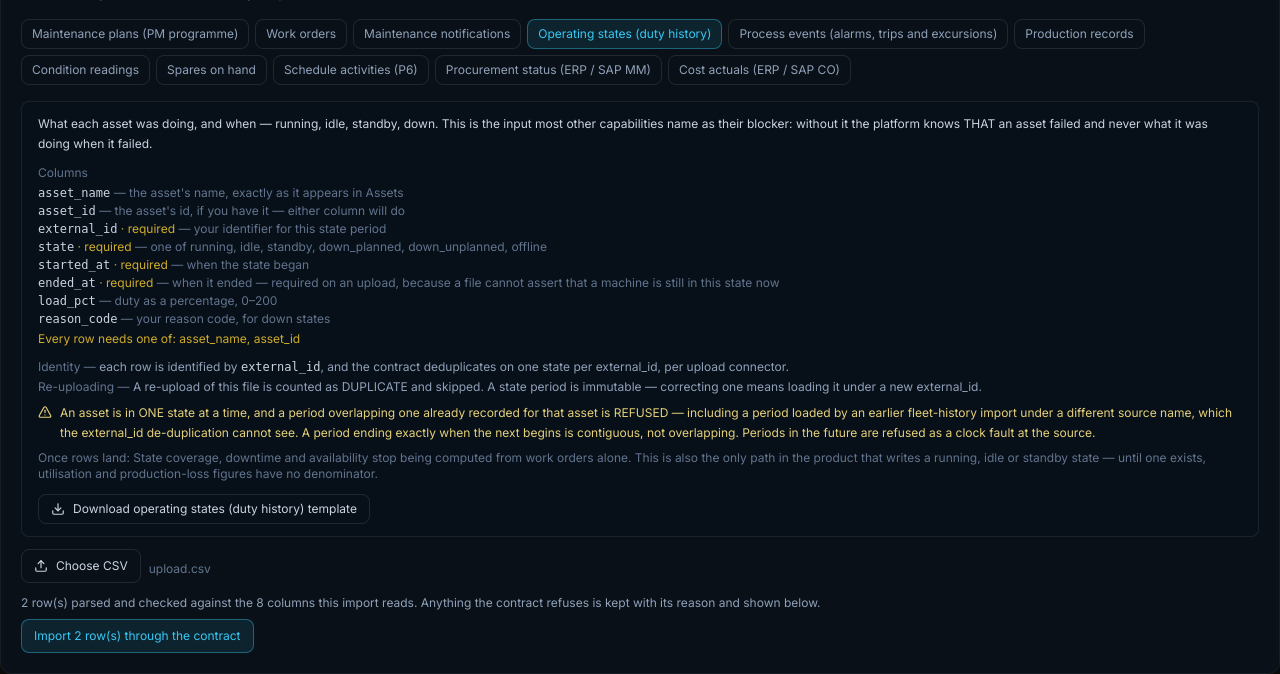
Test case: a run is never left running › finishes as partial when rows were refused, so the watermark holds
Earlier steps of the test are not shown.
(page scrolled)
Click the button "Import 2 row(s) through the contract" at (137, 636), box top-left (21, 619), bottom-right (254, 653)
(page scrolled)
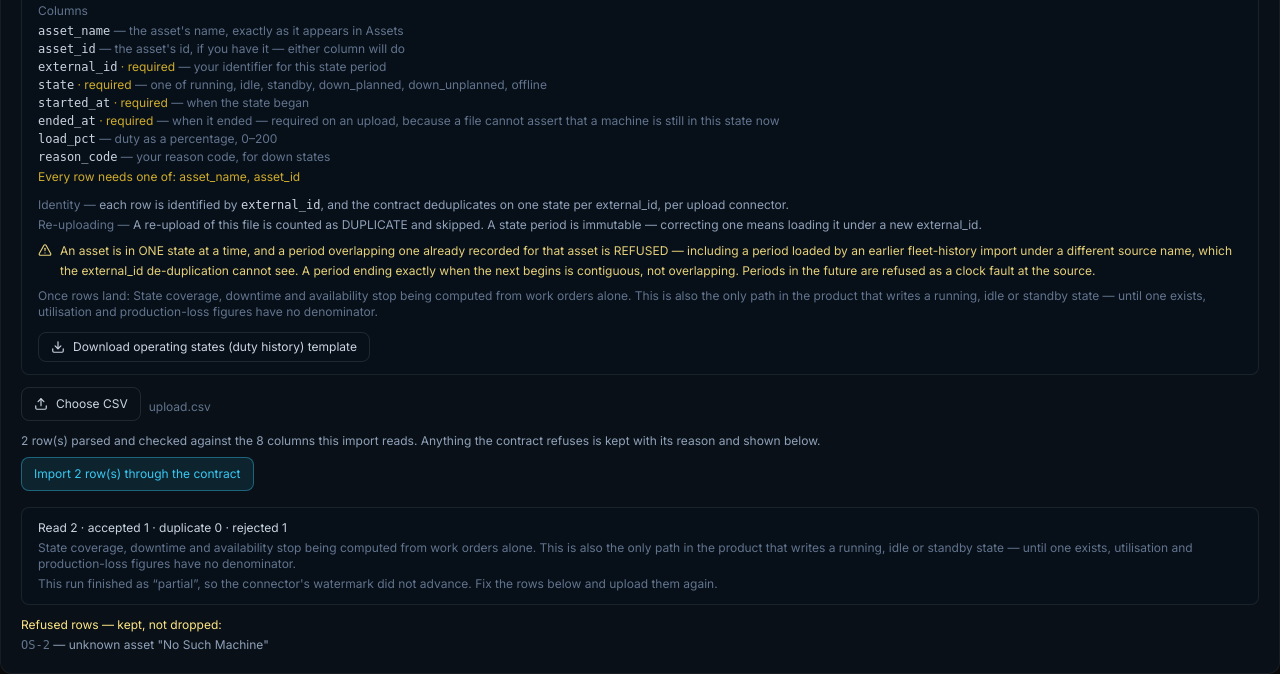
Now the text "OS-2 — unknown asset \"No Such Machine\"" is shown, box top-left (21, 637), bottom-right (269, 652)
Now the text "watermark did not advance" is shown, box top-left (38, 576), bottom-right (718, 591)
